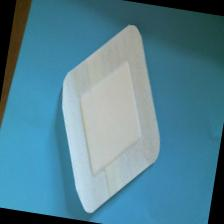Dressing: (40, 13, 182, 224)
